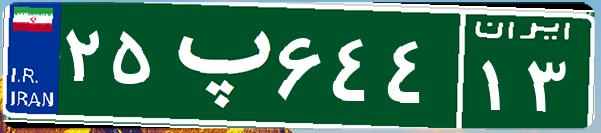1: (475, 38, 525, 113)
2: (57, 26, 110, 107)
3: (525, 38, 570, 115)
4: (385, 28, 445, 110), (330, 28, 385, 110)
5: (110, 28, 158, 105)
6: (273, 28, 330, 110)
پ: (158, 15, 273, 115)
